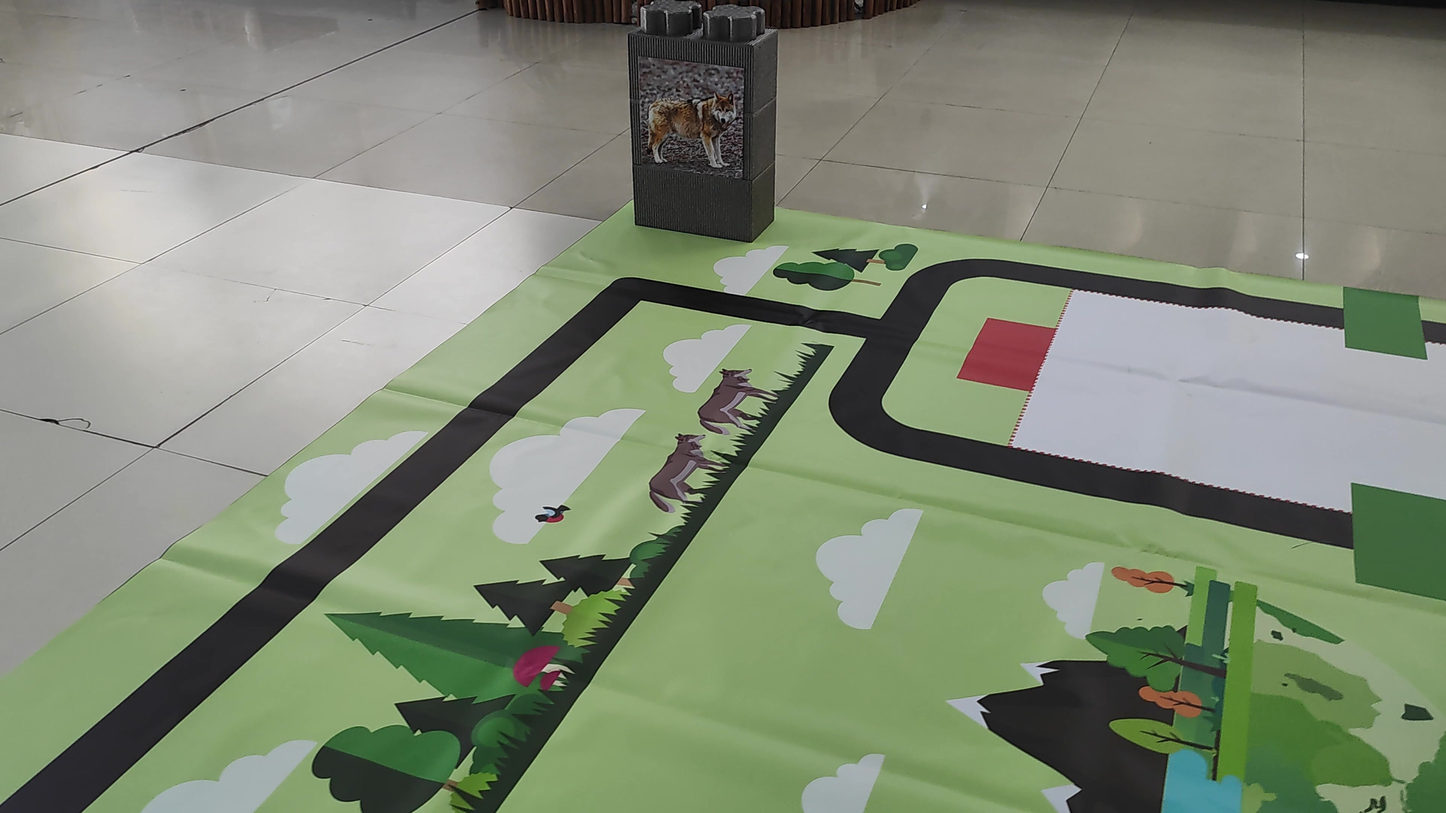wolf: (637, 73, 742, 174)
